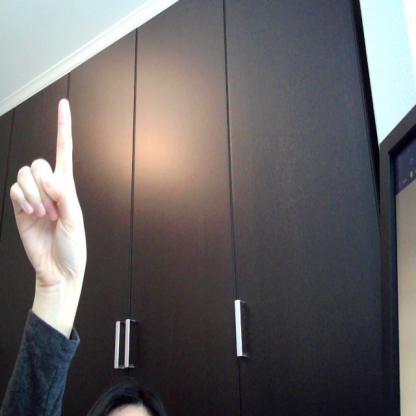one: (8, 95, 92, 295)
